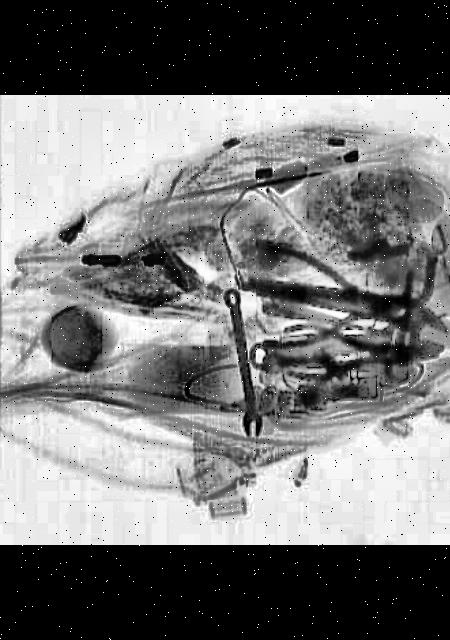Pliers: (243, 248, 401, 366)
Wrench: (241, 302, 450, 386), (216, 291, 260, 439)
